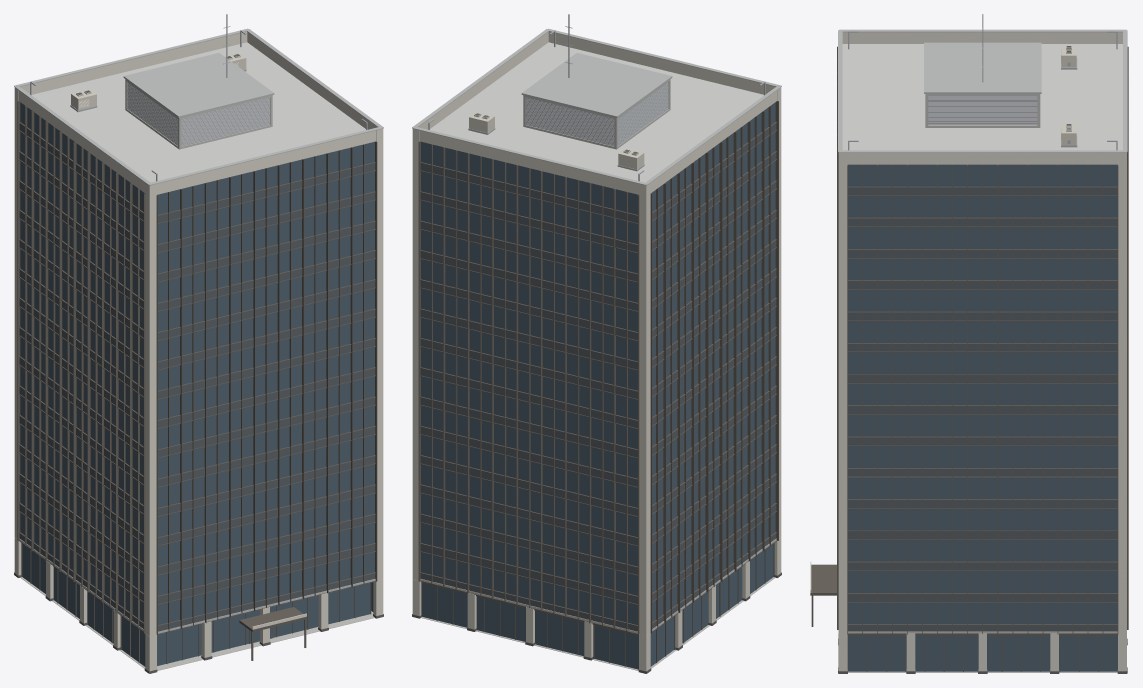
The model's file is SM_Office_16F_C.fbx.
The picture shows the model from 3 angles, left to right: view 1: azimuth 30°, elevation 25°; view 2: azimuth 150°, elevation 25°; view 3: azimuth 270°, elevation 25°; orthographic projection. The views are drawn at different scales.
Parts seen in each view (by area): view 1: SM_Office_16F_C_LOD0; view 2: SM_Office_16F_C_LOD0; view 3: SM_Office_16F_C_LOD0.
Boxes of the visible parts, box(x1,y1,x2,y2) form: SM_Office_16F_C_LOD0: box(14, 14, 383, 673); SM_Office_16F_C_LOD0: box(412, 14, 781, 673); SM_Office_16F_C_LOD0: box(810, 14, 1128, 673).
Size of what is drawn, in the model's own units: 30.44 by 70.6 by 33.22.
